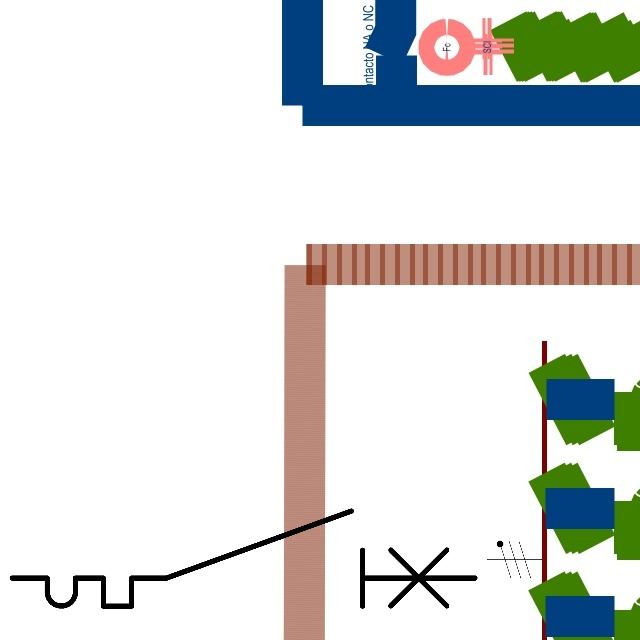interruptor_termomagnetico: (0, 499, 486, 618)
